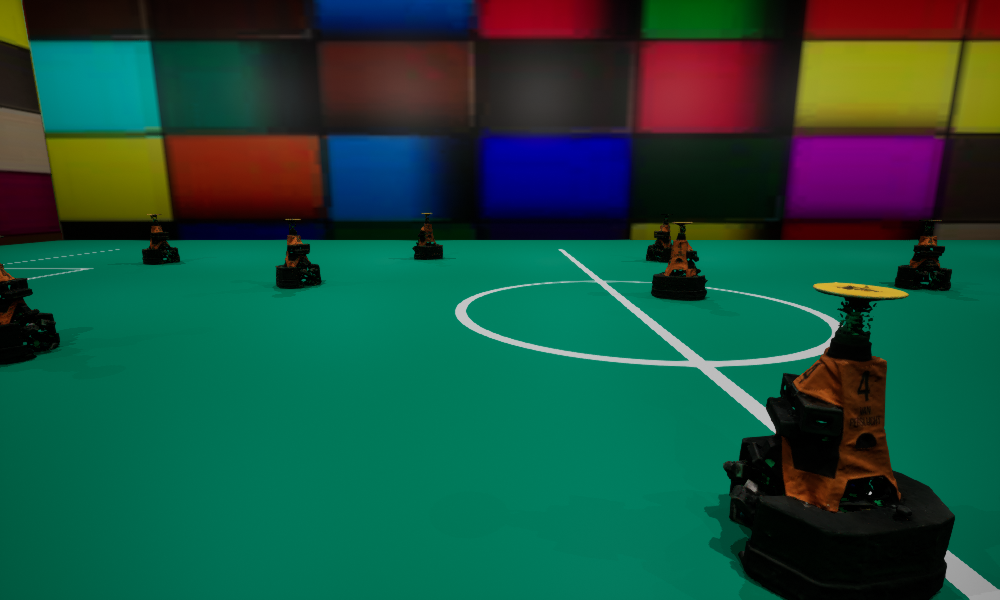0 orange robot TechUnited: (723, 282, 954, 599), (0, 236, 59, 364), (651, 222, 707, 300), (894, 220, 951, 289), (275, 219, 321, 288), (142, 214, 179, 264), (412, 213, 442, 259), (646, 214, 672, 261)
